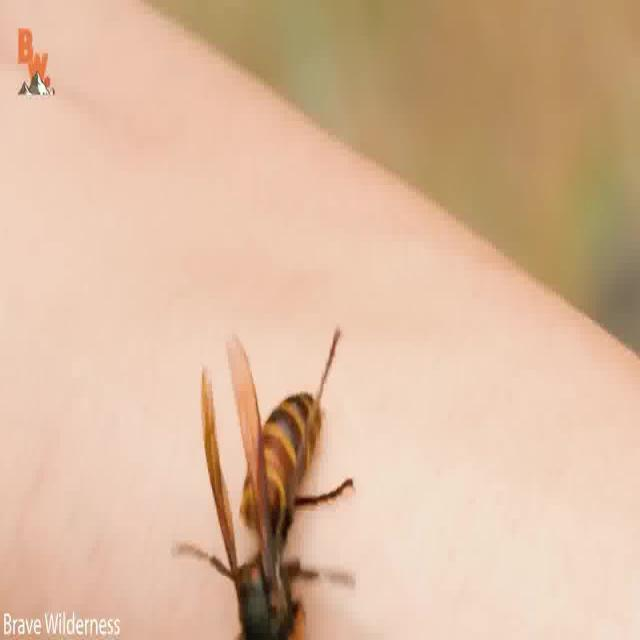Wasp: (168, 333, 366, 640)
